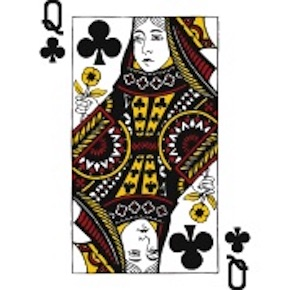QueenOfClubs: (37, 1, 252, 290)
